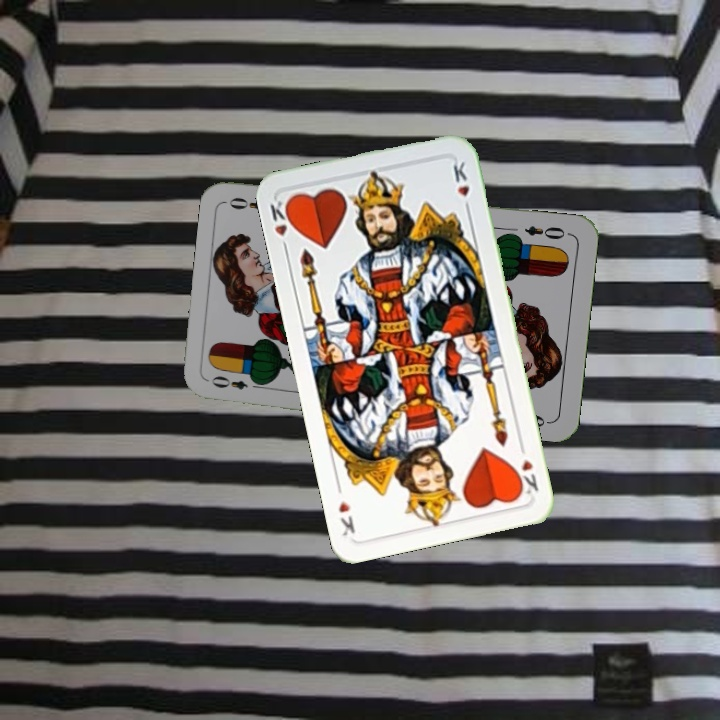EO: (207, 372, 265, 393), (520, 221, 568, 242)
HK: (511, 439, 541, 497), (266, 194, 297, 239)
